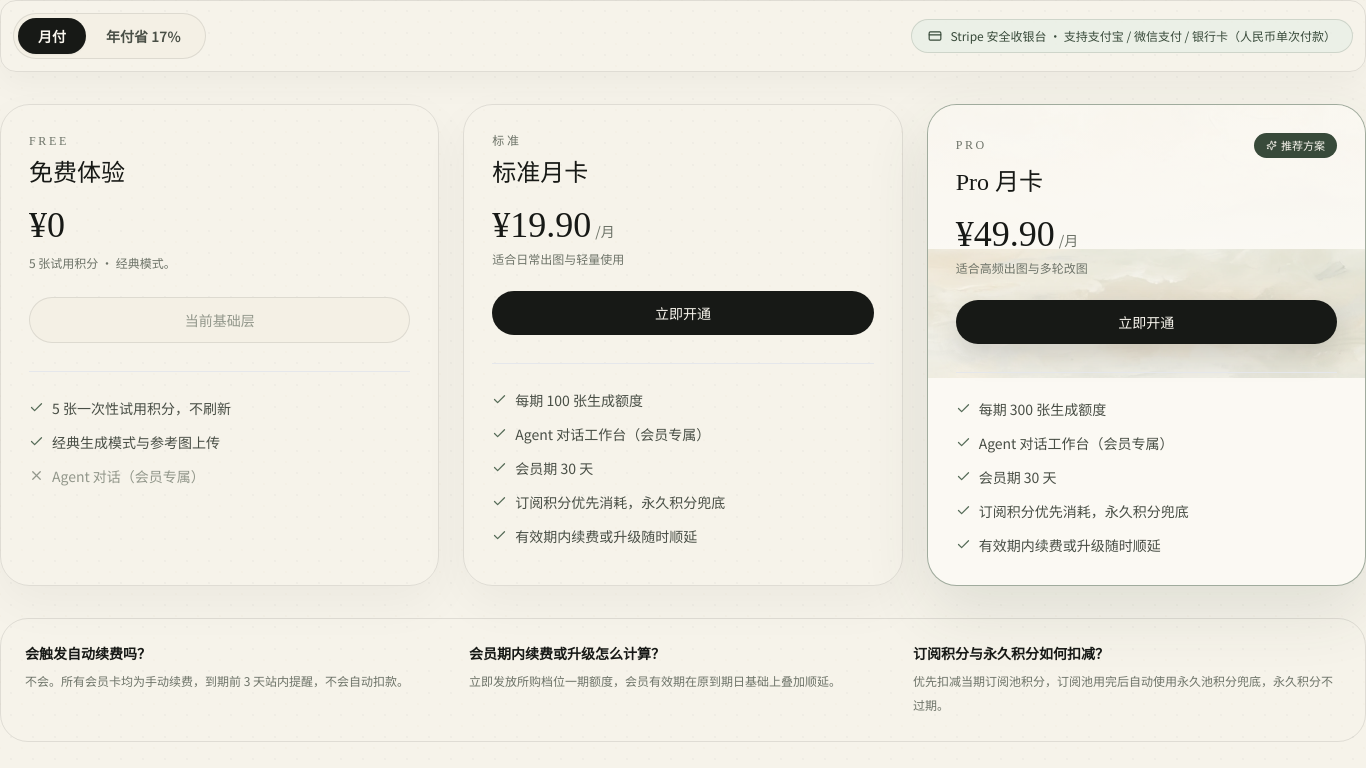
Test: PricingPlans › displays user-facing error copy when checkout returns an error
This screenshot has width=1366, height=768.
Click the button "立即开通" below "适合日常出图与轻量使用" at (683, 313), box top-left (492, 291), bottom-right (874, 335)
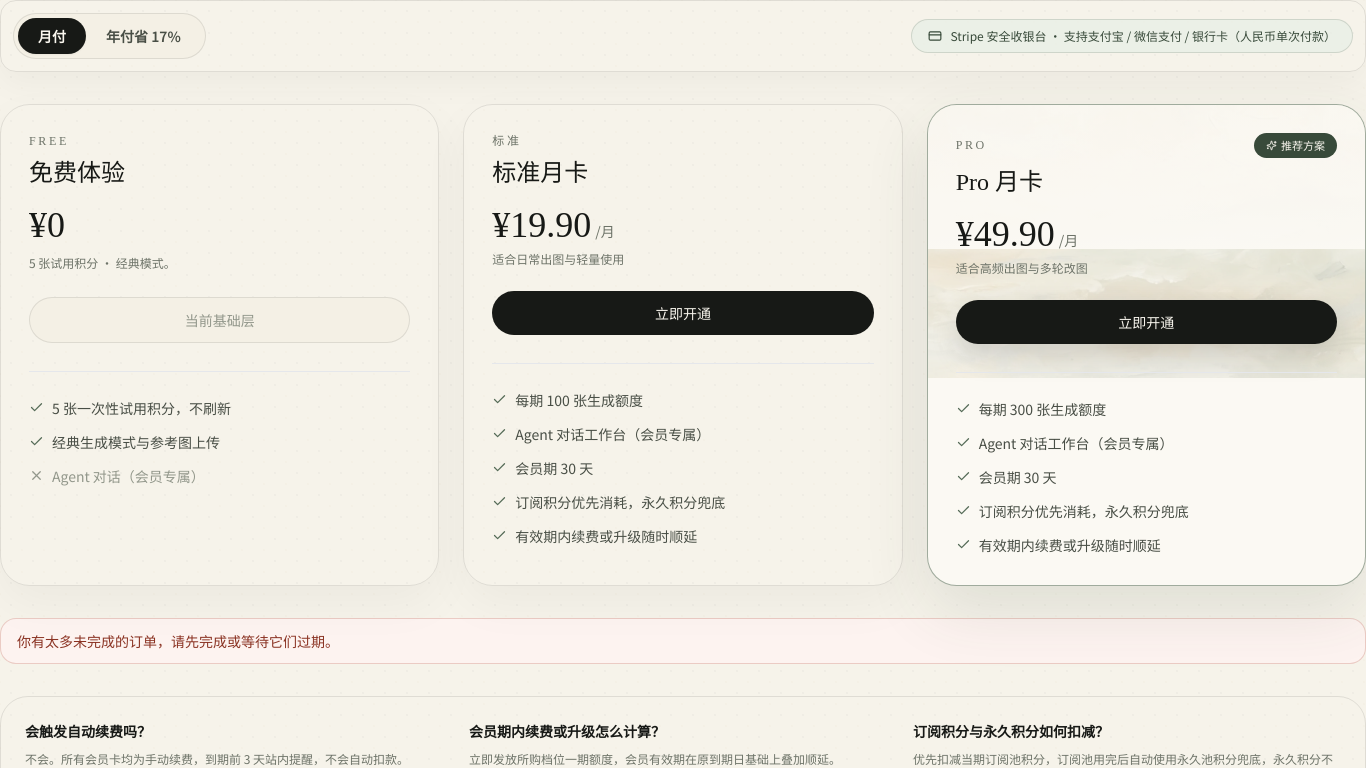
Result: the text "你有太多未完成的订单，请先完成或等待它们过期。" is shown at top-left (0, 618), bottom-right (1365, 664)
